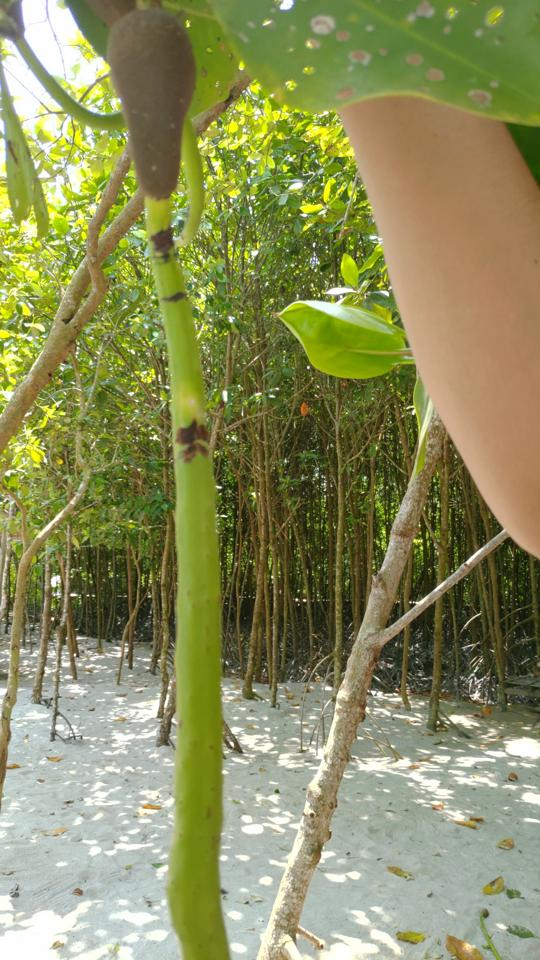setengah matang: (88, 1, 246, 959)
